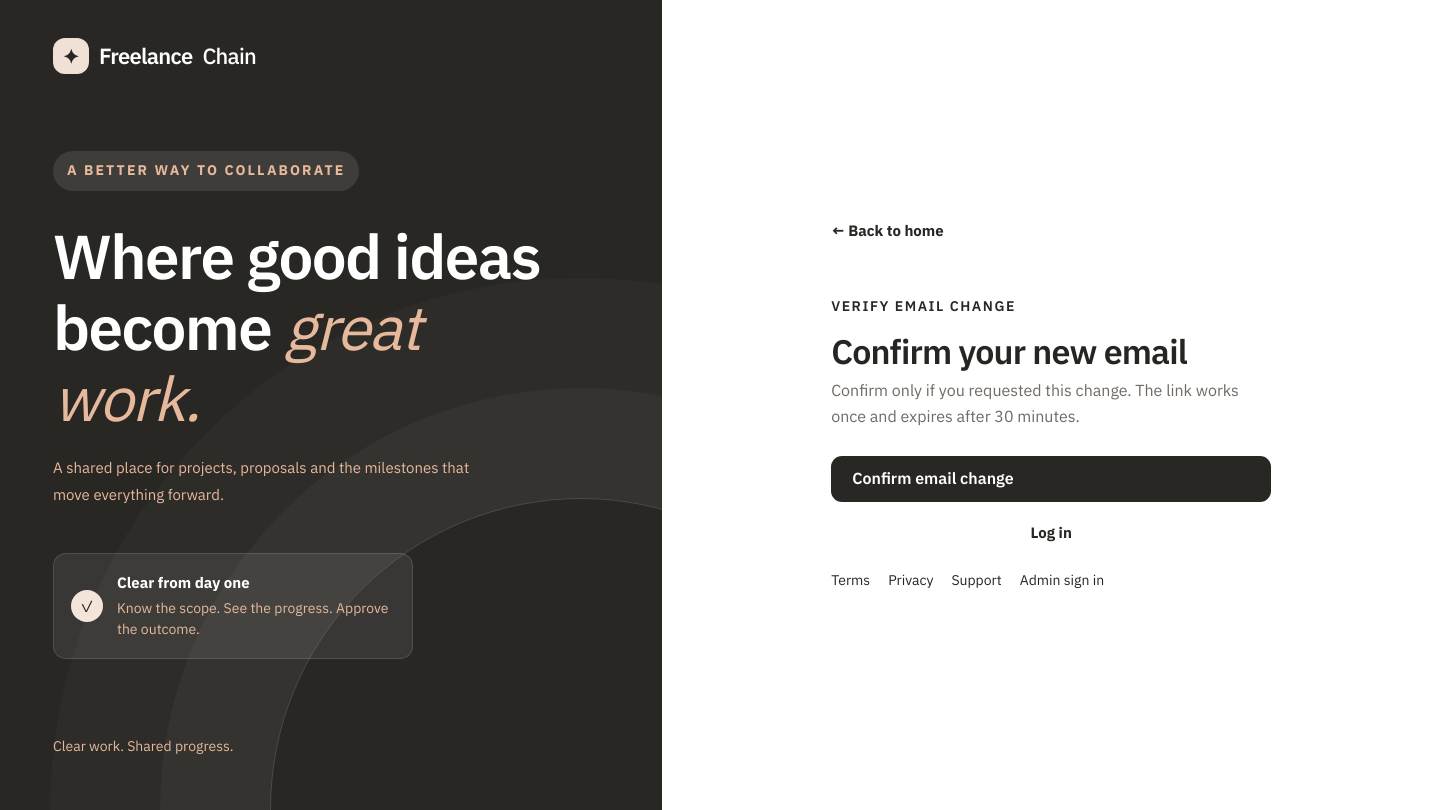
Test: visiting a verification link never consumes it without explicit confirmation
Click the button "Confirm email change" at (933, 478), box [831,456,1271,502]
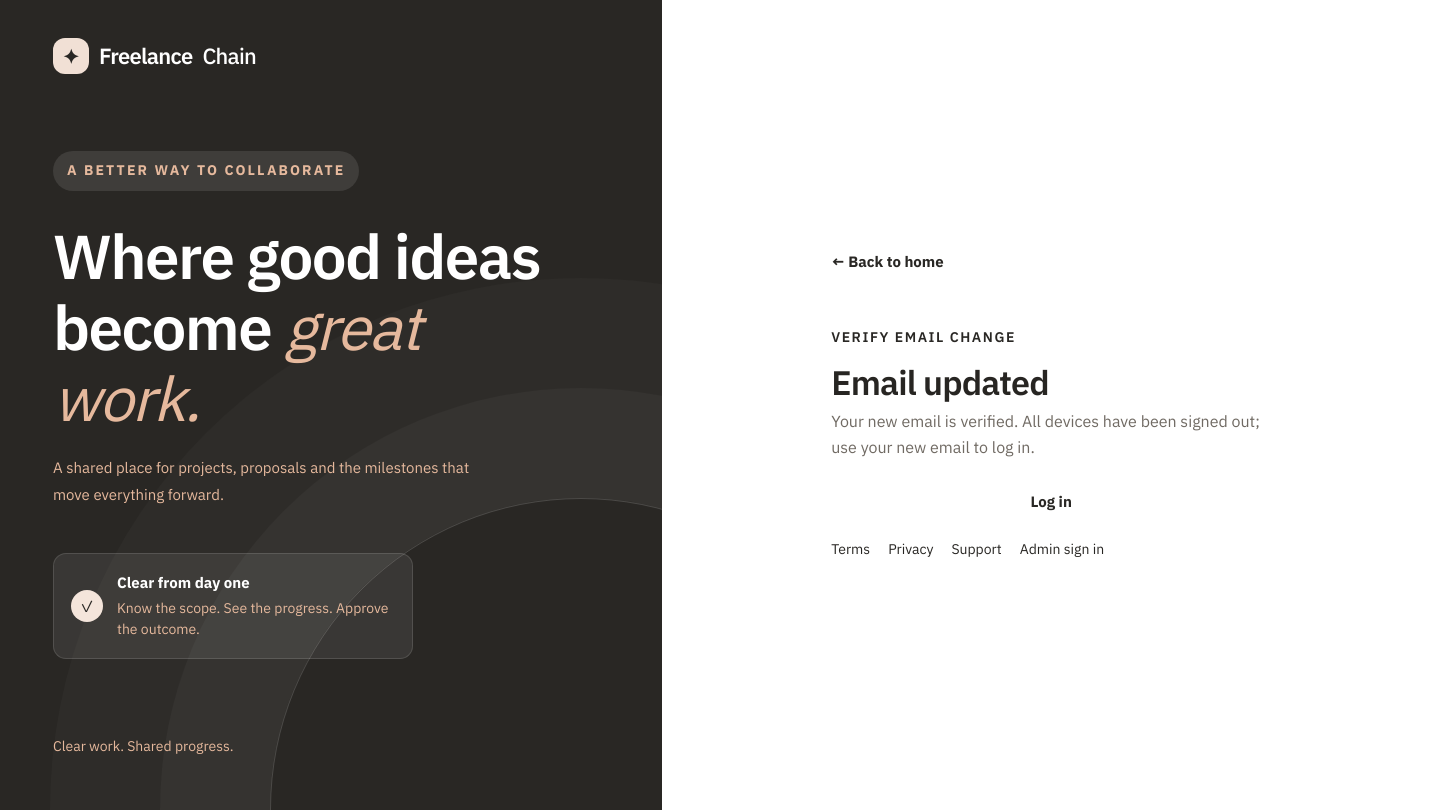
Expected: the heading "Email updated" is shown, [831,360,1049,404]
